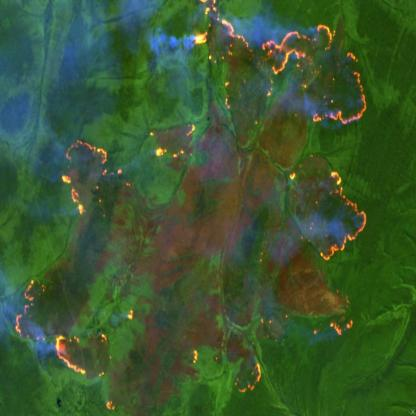fire: (10, 0, 368, 416)
